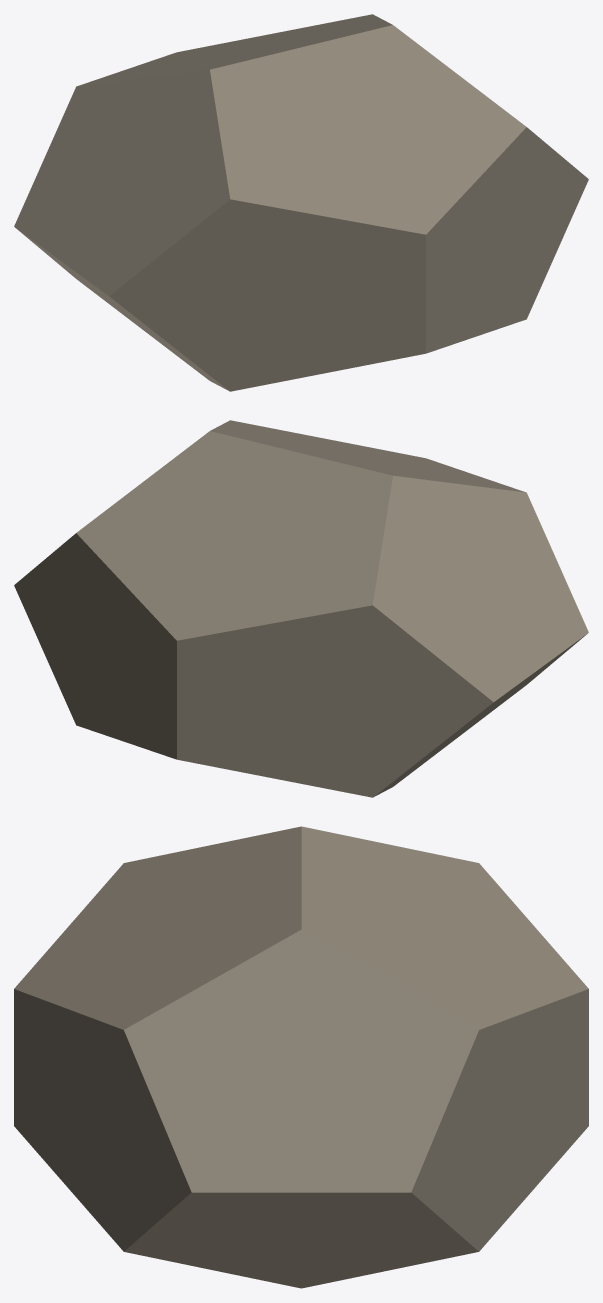
Rendered from piedra.glb.
3 renders of one model, top to bottom at view 1: azimuth 30°, elevation 25°; view 2: azimuth 150°, elevation 25°; view 3: azimuth 270°, elevation 25°, orthographic. The views are drawn at different scales.
Visible parts, largest first — view 1: cuerpo; view 2: cuerpo; view 3: cuerpo.
Boxes of the visible parts, <box> form: cuerpo: <box>14,14,588,391</box>; cuerpo: <box>14,420,588,797</box>; cuerpo: <box>14,826,588,1288</box>.
Bounding box in the file's own units: 0.1028 × 0.0637 × 0.0925.
